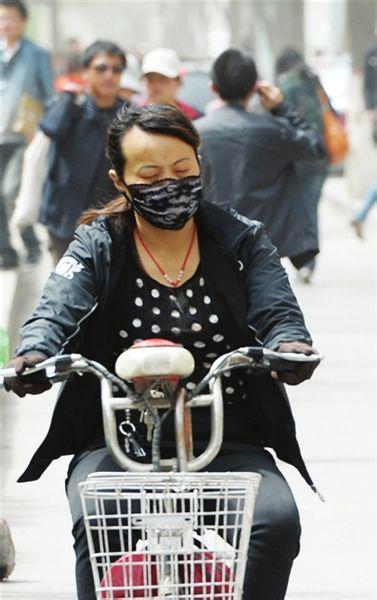NONE: (90, 56, 126, 95), (1, 8, 24, 41), (148, 74, 174, 102)
OK: (123, 142, 199, 230)
